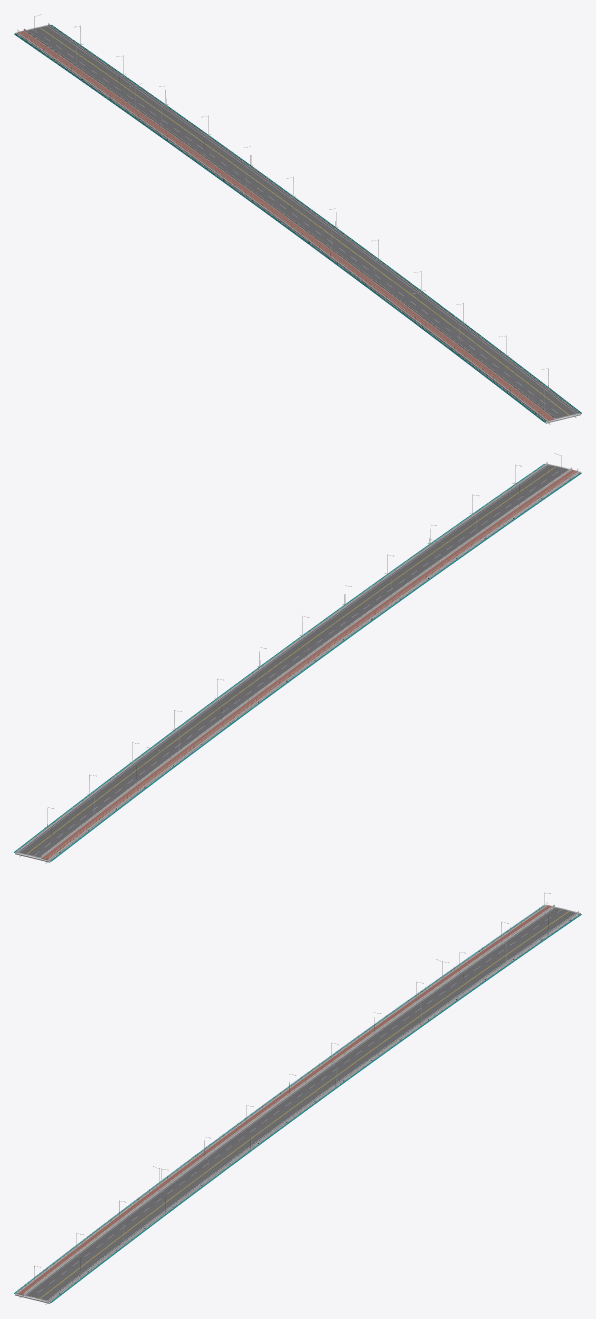
Rendered from FURNITURE.glb.
The picture shows the model from 3 angles, top to bottom: view 1: azimuth 30°, elevation 25°; view 2: azimuth 150°, elevation 25°; view 3: azimuth 330°, elevation 25°; orthographic projection.
Parts seen in each view (by area): view 1: 차도 아스팔트 T80, 칼라 아스콘 T70, 겸용울타리 타원레일, 현장타설블럭(난간), 에지트로프 외벽, 에지트로프 스크린, 현장타설블럭(동측), 에지트로프 바닥, 점검차레일, 차량울타리 장공레일, 단부 업스탠드 t10 (서), 방호울타리 연석 상부 (+1 smaller); view 2: 차도 아스팔트 T80, 칼라 아스콘 T70, 겸용울타리 타원레일, 현장타설블럭(난간), 에지트로프 외벽, 에지트로프 스크린, 현장타설블럭(동측), 에지트로프 바닥, 점검차레일, 차량울타리 장공레일, 단부 업스탠드 t10 (서), 방호울타리 연석 상부 (+1 smaller); view 3: 차도 아스팔트 T80, 칼라 아스콘 T70, 점검차레일, 겸용울타리 타원레일, 에지트로프 외벽, 현장타설블럭(동측), 방호울타리 연석 상부, 현장타설블럭(난간), 에지트로프 스크린, 단부 업스탠드 t10 (동), 에지트로프 바닥, 차량울타리 장공레일 (+2 smaller).
Part boxes in pixels (left/top/right/bottom): 차도 아스팔트 T80: left=27, top=25, right=577, bottom=418; 칼라 아스콘 T70: left=18, top=31, right=553, bottom=420; 겸용울타리 타원레일: left=23, top=29, right=554, bottom=418; 현장타설블럭(난간): left=16, top=32, right=547, bottom=421; 에지트로프 외벽: left=14, top=25, right=581, bottom=422; 에지트로프 스크린: left=14, top=25, right=581, bottom=421; 현장타설블럭(동측): left=48, top=24, right=579, bottom=413; 에지트로프 바닥: left=15, top=26, right=581, bottom=422; 점검차레일: left=15, top=30, right=579, bottom=421; 차량울타리 장공레일: left=48, top=24, right=578, bottom=412; 단부 업스탠드 t10 (서): left=15, top=33, right=545, bottom=422; 방호울타리 연석 상부: left=24, top=30, right=554, bottom=419; 차도 아스팔트 T80: left=18, top=464, right=568, bottom=857; 칼라 아스콘 T70: left=42, top=470, right=577, bottom=859; 겸용울타리 타원레일: left=41, top=468, right=572, bottom=857; 현장타설블럭(난간): left=48, top=471, right=579, bottom=860; 에지트로프 외벽: left=14, top=464, right=581, bottom=861; 에지트로프 스크린: left=14, top=464, right=581, bottom=860; 현장타설블럭(동측): left=16, top=463, right=547, bottom=852; 에지트로프 바닥: left=14, top=465, right=580, bottom=861; 점검차레일: left=16, top=469, right=580, bottom=860; 차량울타리 장공레일: left=17, top=463, right=547, bottom=851; 단부 업스탠드 t10 (서): left=50, top=472, right=580, bottom=861; 방호울타리 연석 상부: left=41, top=469, right=571, bottom=858; 차도 아스팔트 T80: left=25, top=907, right=576, bottom=1300; 칼라 아스콘 T70: left=17, top=905, right=552, bottom=1294; 점검차레일: left=15, top=905, right=579, bottom=1301; 겸용울타리 타원레일: left=23, top=905, right=554, bottom=1294; 에지트로프 외벽: left=14, top=906, right=581, bottom=1302; 현장타설블럭(동측): left=47, top=912, right=578, bottom=1301; 방호울타리 연석 상부: left=24, top=906, right=554, bottom=1295; 현장타설블럭(난간): left=16, top=905, right=547, bottom=1293; 에지트로프 스크린: left=14, top=906, right=581, bottom=1302; 단부 업스탠드 t10 (동): left=50, top=913, right=580, bottom=1302; 에지트로프 바닥: left=14, top=906, right=580, bottom=1302; 차량울타리 장공레일: left=49, top=912, right=578, bottom=1299.
Bounding box in the file's own units: 18.24 × 15.18 × 450.
